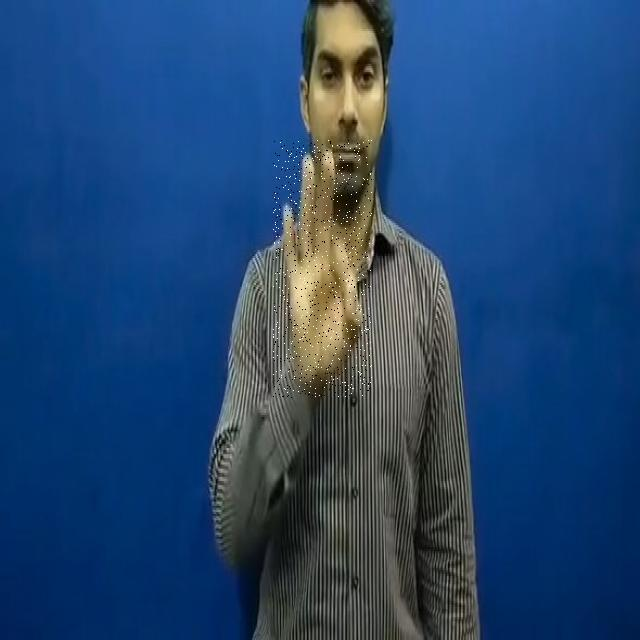eggs: (273, 140, 372, 398)
